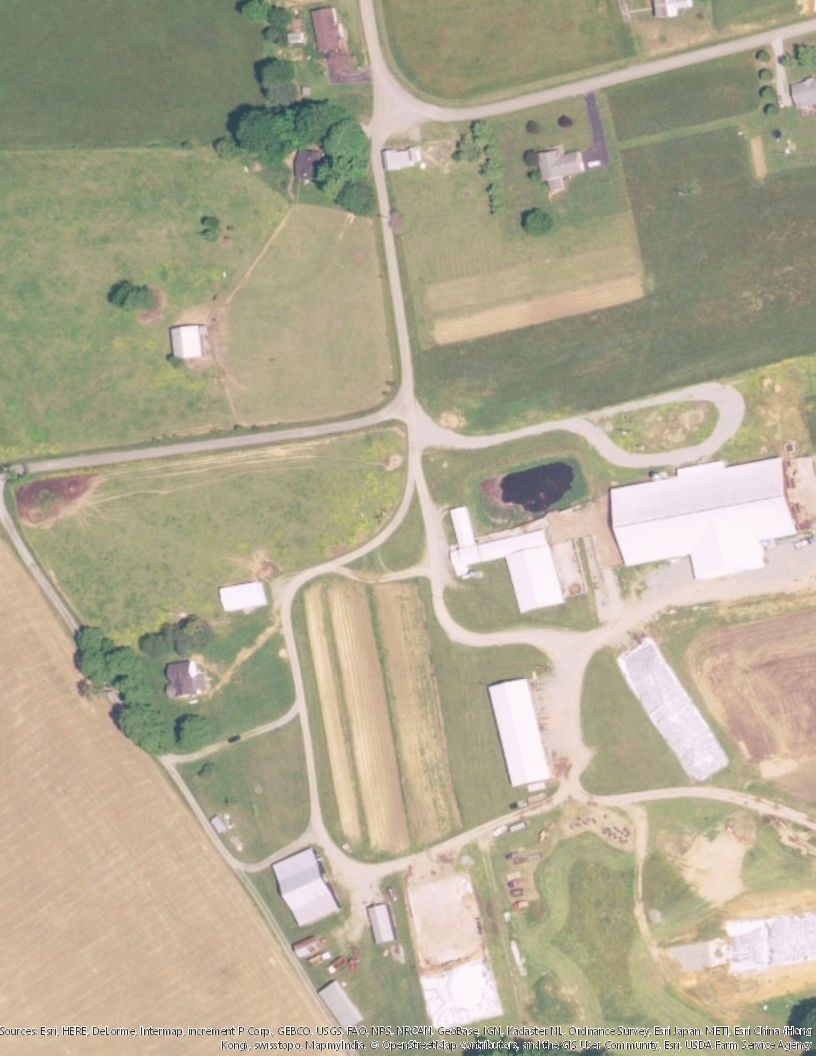cafo: (605, 452, 806, 577), (449, 505, 568, 616), (483, 670, 563, 798), (216, 577, 276, 613)
